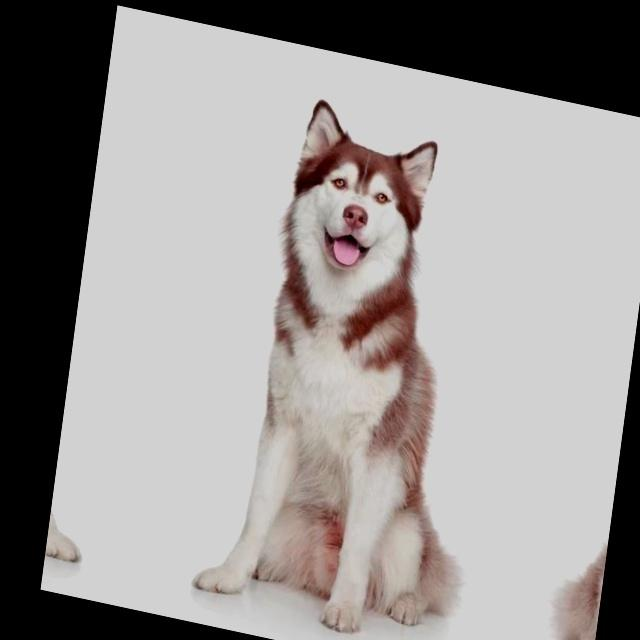dog: (174, 51, 536, 640), (44, 24, 166, 574), (532, 128, 640, 640)
